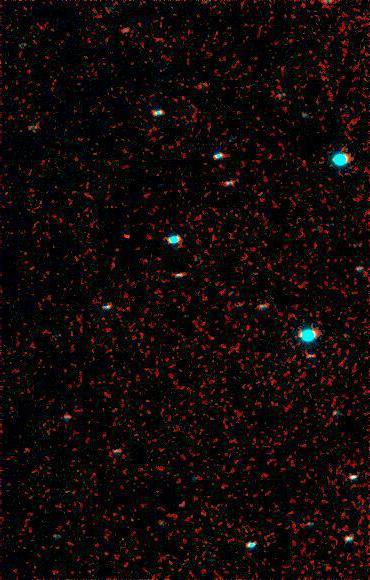star: (112, 221, 142, 251)
